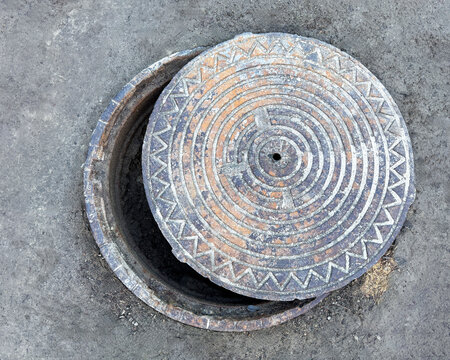Open_manhole: (71, 34, 421, 334)
